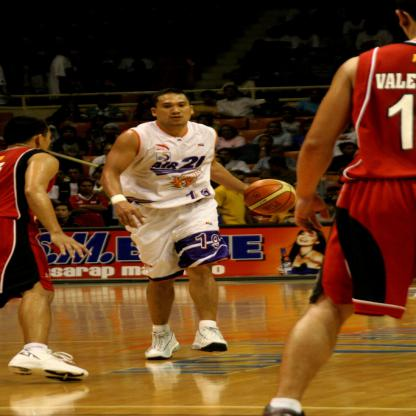Ball: (244, 178, 300, 216)
